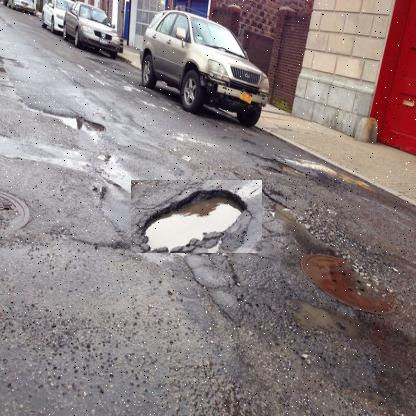damage: (288, 214, 409, 310)
pothole_water: (130, 180, 262, 254), (44, 102, 104, 142)
